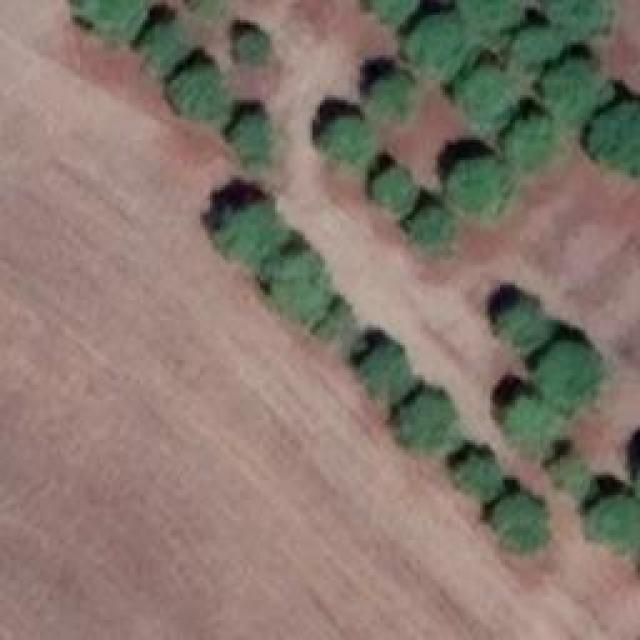Tree: (257, 247, 340, 319), (212, 198, 284, 265), (165, 60, 231, 125), (448, 153, 513, 217), (505, 395, 565, 460), (490, 485, 549, 551), (395, 388, 456, 450), (453, 55, 515, 116), (542, 345, 601, 406), (585, 490, 639, 555), (403, 18, 465, 74), (318, 107, 377, 165), (72, 0, 145, 45), (550, 58, 610, 112), (448, 443, 504, 498), (352, 354, 411, 406), (595, 103, 640, 171), (143, 23, 196, 79), (373, 70, 424, 128), (550, 0, 614, 46), (460, 0, 520, 49), (507, 120, 564, 169), (510, 20, 561, 70), (228, 108, 277, 160), (500, 300, 552, 348), (370, 160, 419, 209), (408, 203, 455, 252), (320, 308, 360, 358), (550, 450, 592, 495), (228, 28, 270, 72), (370, 0, 418, 28)
